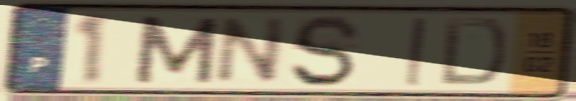1: (70, 11, 109, 88)
D: (436, 15, 509, 89)
I: (402, 15, 429, 89)
M: (131, 13, 223, 86)
N: (211, 14, 292, 86)
S: (288, 12, 365, 90)
